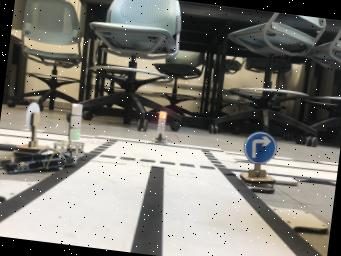right: (239, 131, 277, 193), (239, 131, 277, 193), (239, 131, 277, 193)
street: (0, 135, 322, 256), (0, 135, 322, 256), (0, 135, 322, 256)
traffic_light: (53, 103, 84, 158), (53, 103, 84, 158), (53, 103, 84, 158), (152, 110, 167, 144), (152, 110, 167, 144), (152, 110, 167, 144)
